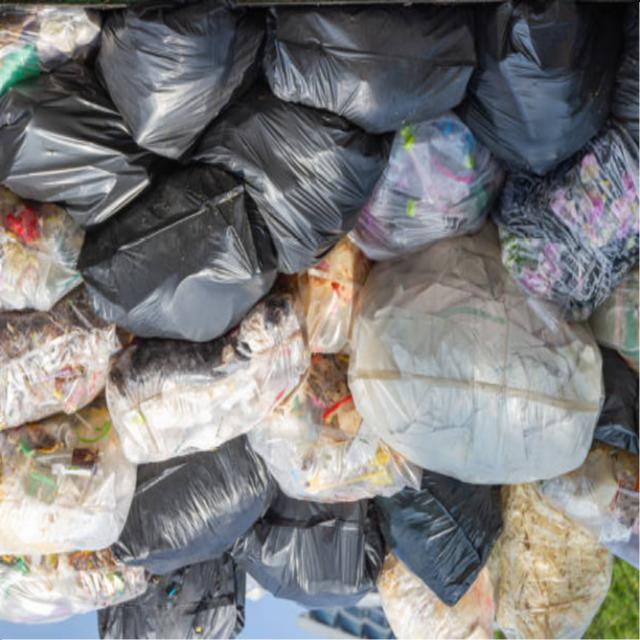Trashbag: (87, 178, 253, 342), (270, 12, 486, 127), (96, 10, 270, 152), (241, 114, 399, 244), (477, 12, 601, 169), (116, 448, 262, 570), (370, 474, 494, 594), (240, 501, 380, 603), (94, 557, 248, 640), (8, 98, 122, 199)
